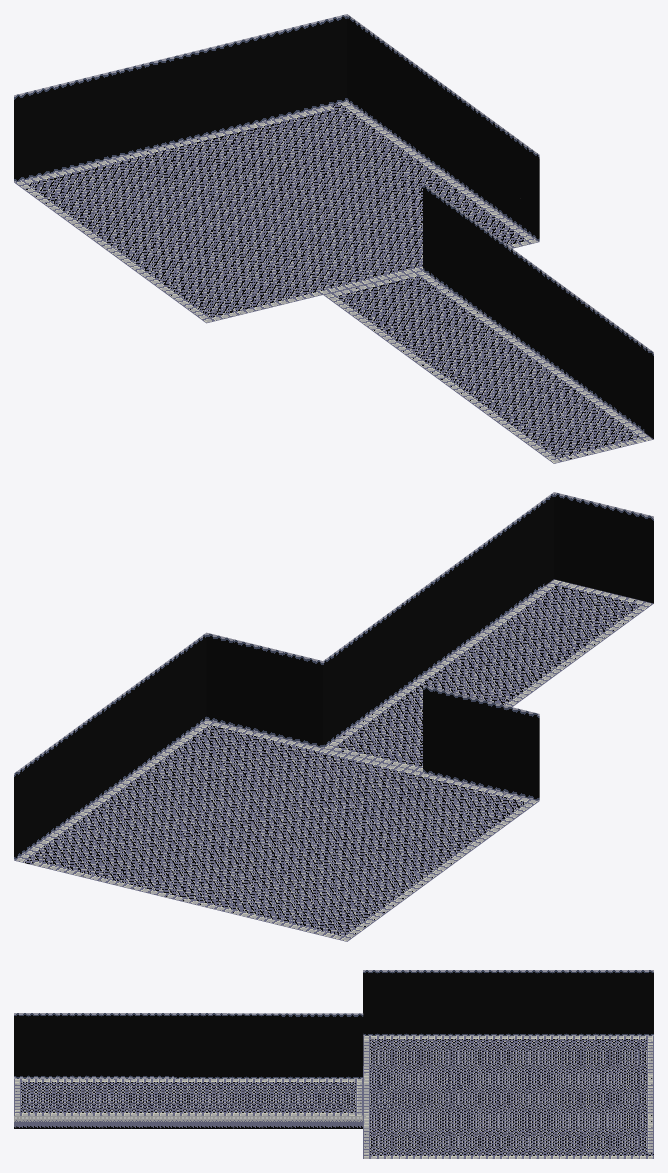
The model's file is lobby_model.gltf.
The picture shows the model from 3 angles, top to bottom: view 1: azimuth 30°, elevation 25°; view 2: azimuth 150°, elevation 25°; view 3: azimuth 270°, elevation 25°; orthographic projection. The views are drawn at different scales.
Parts seen in each view (by area): view 1: room -col; view 2: room -col; view 3: room -col.
Part boxes in pixels (left/top/right/bottom): room -col: left=14, top=14, right=653, bottom=463; room -col: left=14, top=492, right=653, bottom=941; room -col: left=14, top=970, right=653, bottom=1158.
Size of the model in its own units: 20 by 6 by 44.01.
Materials: 1 (1 with a texture image).
